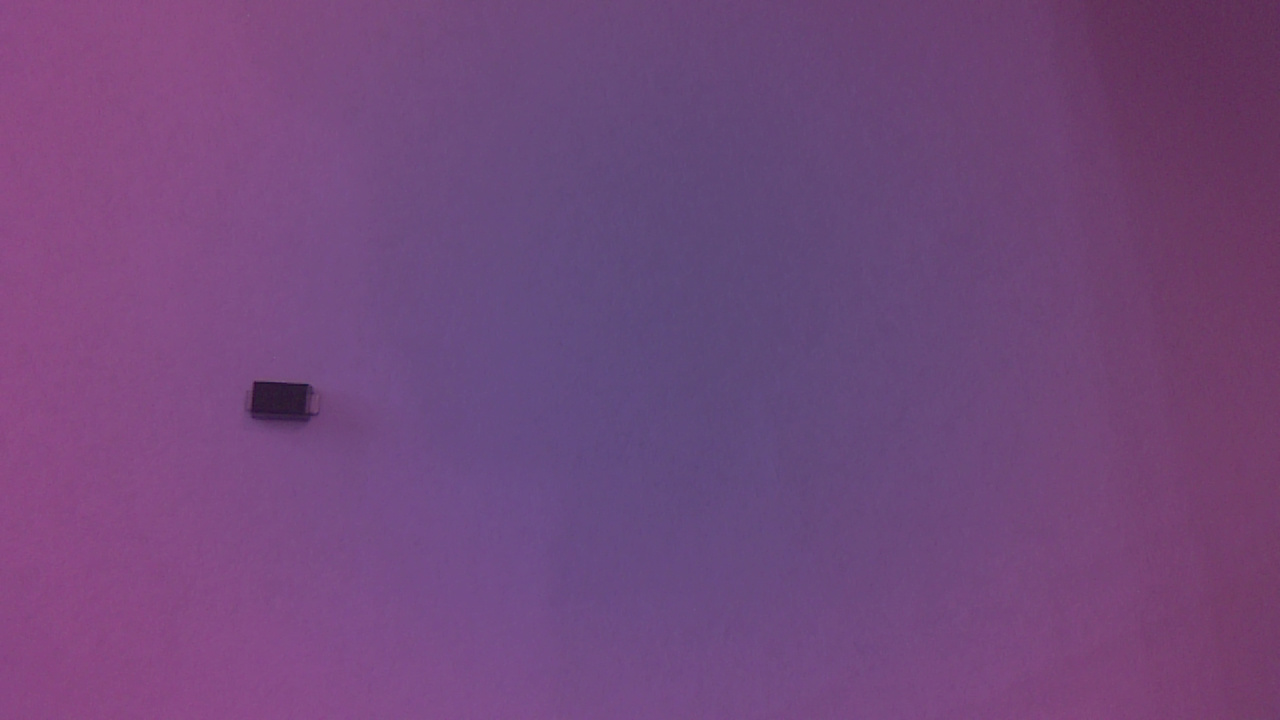Diode: (246, 380, 335, 433)
